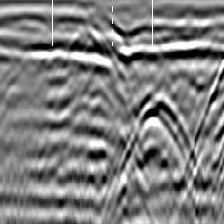Utility: (114, 90, 197, 211)
